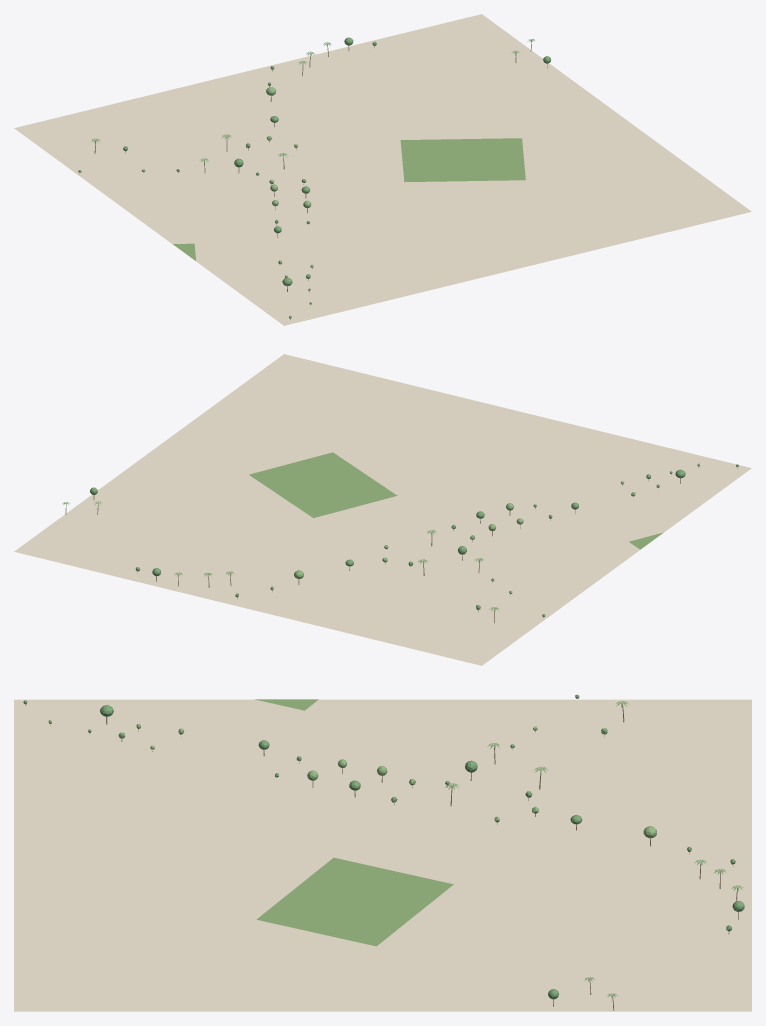
Rendered from nature_-2_-1.glb.
3 views of the same model, one above another, from view 1: azimuth 30°, elevation 25°; view 2: azimuth 150°, elevation 25°; view 3: azimuth 270°, elevation 25° (orthographic). The views are drawn at different scales.
Parts seen in each view (by area): view 1: ground, grass, foliage_a; view 2: ground, grass, foliage_a; view 3: ground, grass, foliage_a, foliage_b.
Boxes of the visible parts, x1,y1,x2,y2 form: ground: (14, 14, 751, 325); grass: (173, 138, 525, 260); foliage_a: (78, 37, 551, 318); ground: (14, 354, 751, 665); grass: (249, 452, 663, 549); foliage_a: (90, 464, 738, 616); ground: (14, 699, 751, 1011); grass: (255, 699, 453, 946); foliage_a: (23, 694, 744, 999); foliage_b: (48, 720, 656, 838).
Bounding box in the file's own units: 252 × 8.05 × 250.
